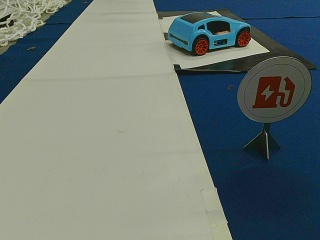battery: (237, 55, 311, 124)
car: (168, 14, 251, 55)
